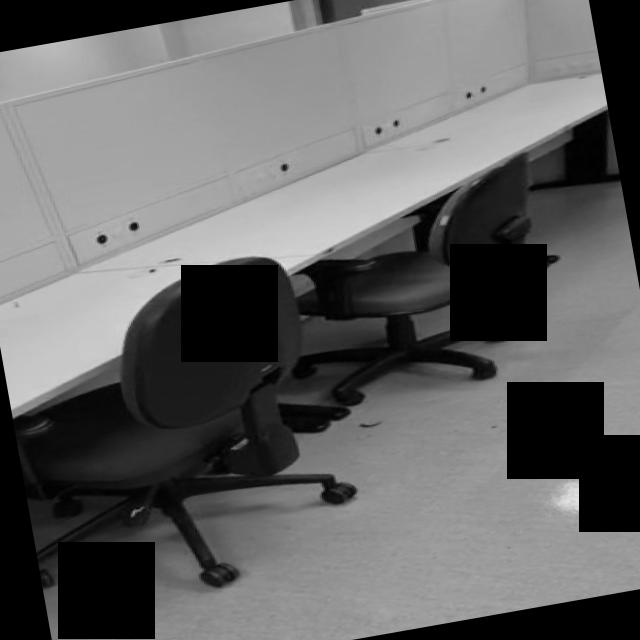cadeira-azul: (0, 243, 369, 614)
